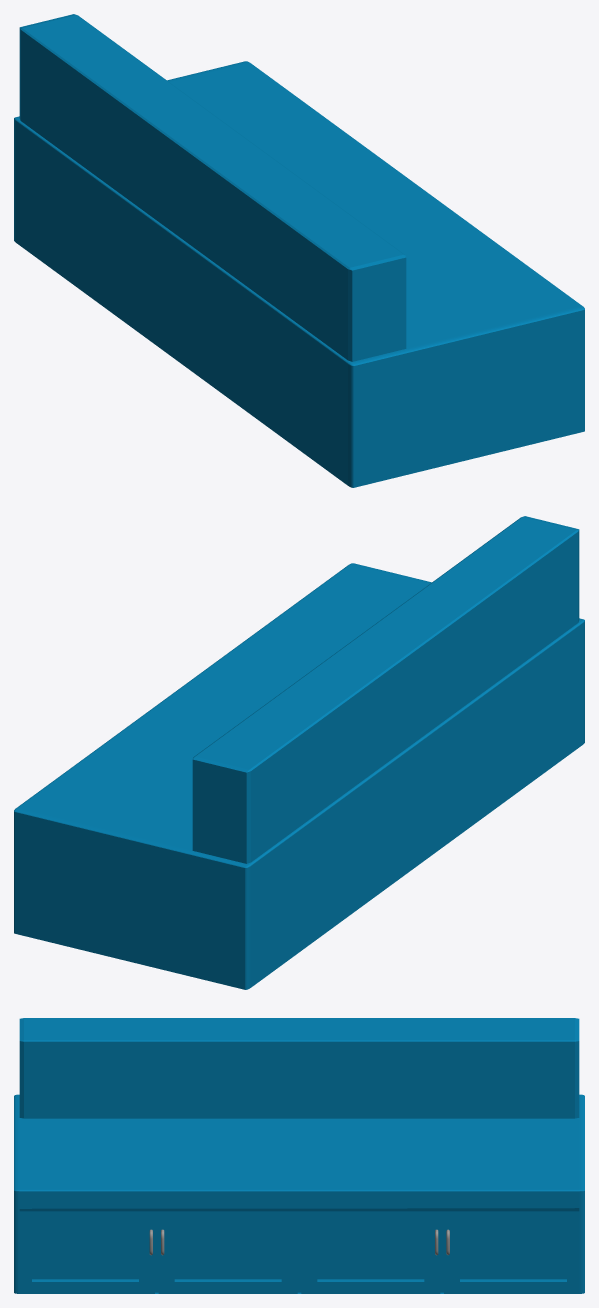
File: Workstation.glb
The picture shows the model from 3 angles, top to bottom: view 1: azimuth 30°, elevation 25°; view 2: azimuth 150°, elevation 25°; view 3: azimuth 270°, elevation 25°; orthographic projection. The views are drawn at different scales.
Parts seen in each view (by area): view 1: Workstation; view 2: Workstation; view 3: Workstation.
Boxes of the visible parts, bbox=[...] form: Workstation: bbox=[14, 14, 584, 487]; Workstation: bbox=[14, 516, 584, 989]; Workstation: bbox=[14, 1018, 584, 1293].
Bounding box in the file's own units: 4.15 × 3.5 × 10.
